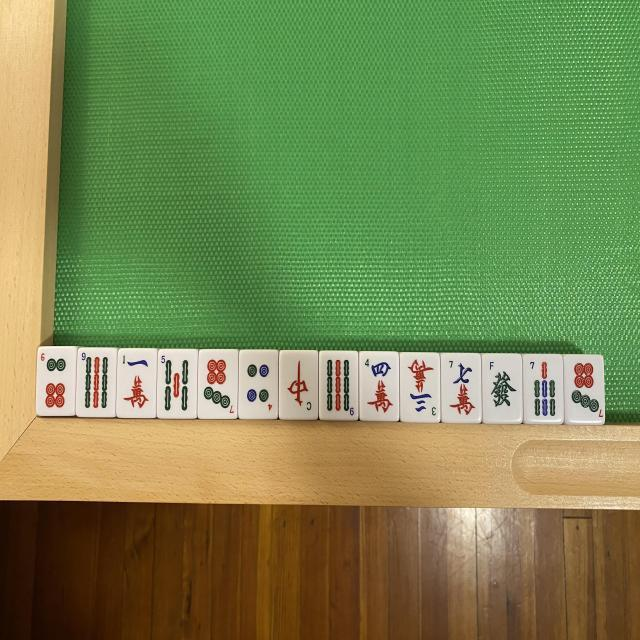hdg: (483, 354, 522, 422)
hdr: (280, 351, 318, 418)
sb5: (162, 351, 198, 418)
sb7: (524, 356, 564, 424)
sb9: (78, 348, 115, 416), (323, 352, 359, 420)
sc1: (120, 351, 158, 418)
sc3: (404, 352, 442, 420)
sc4: (359, 351, 397, 419)
sc7: (441, 356, 478, 424)
sd4: (240, 352, 280, 420)
sd6: (39, 348, 77, 416)
sd7: (565, 356, 603, 424), (200, 352, 238, 418)
